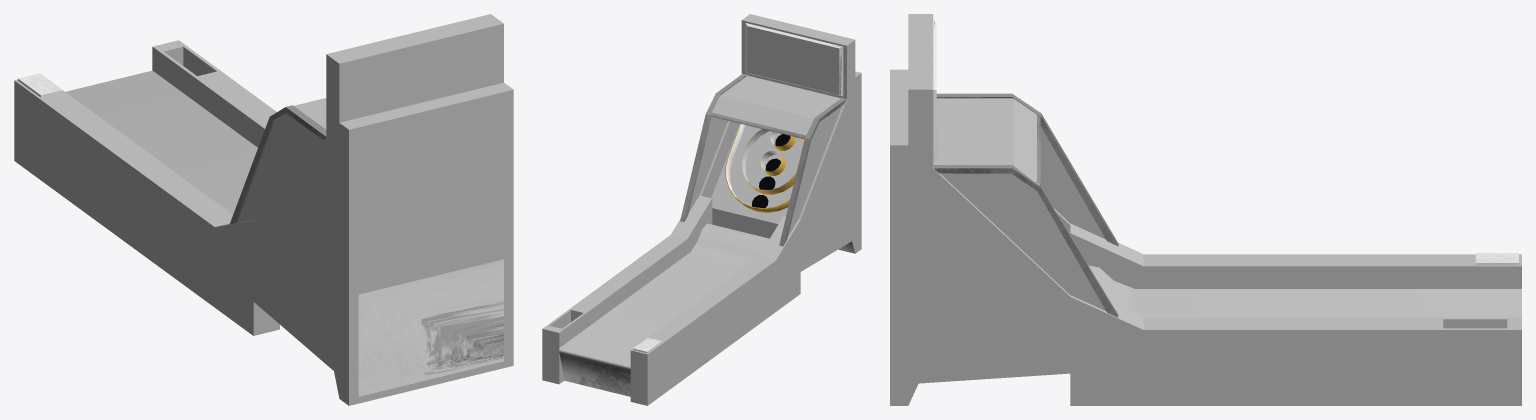
The model's file is LOD1 Skee-Ball.fbx.
3 renders of one model, left to right at view 1: azimuth 30°, elevation 25°; view 2: azimuth 150°, elevation 25°; view 3: azimuth 270°, elevation 25°, orthographic. The views are drawn at different scales.
Parts seen in each view (by area): view 1: Cube.014; view 2: Cube.014; view 3: Cube.014.
Part boxes in pixels (x1=…): Cube.014: x1=14, y1=14, x2=513, y2=405; Cube.014: x1=542, y1=14, x2=861, y2=405; Cube.014: x1=890, y1=14, x2=1521, y2=405.
Size of the model in its own units: 98.21 by 191 by 346.
